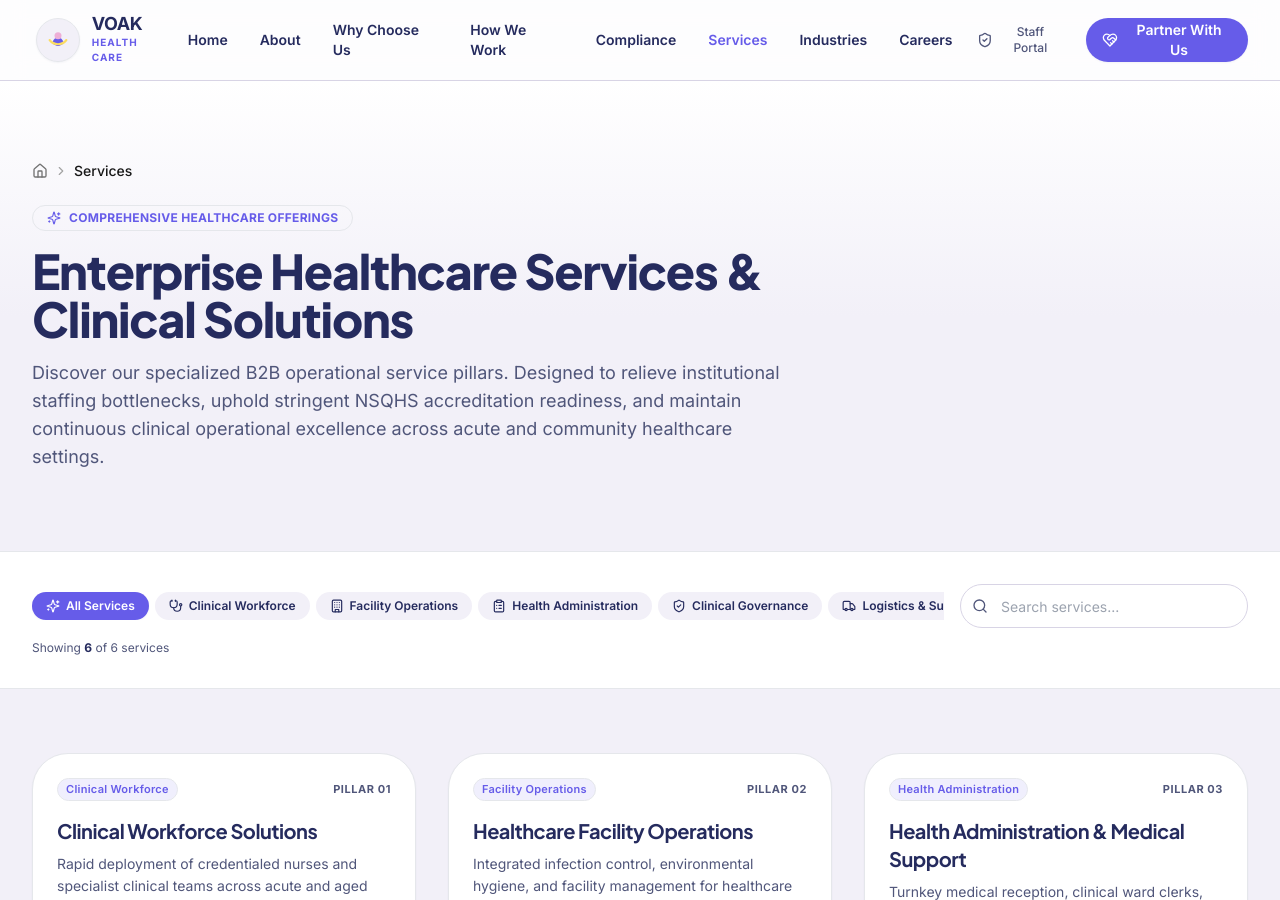
Scenario: Phase 22 — Services & Industries Catalog Suite › PAGE-PUB-03: Services Overview (/services) › filters services by keyword search and displays empty state on zero matches
This screenshot has width=1280, height=900.
Type "locum" into the search field with placeholder "Search services...".
click(1104, 606); type("locum")  # box [960,584,1248,628]
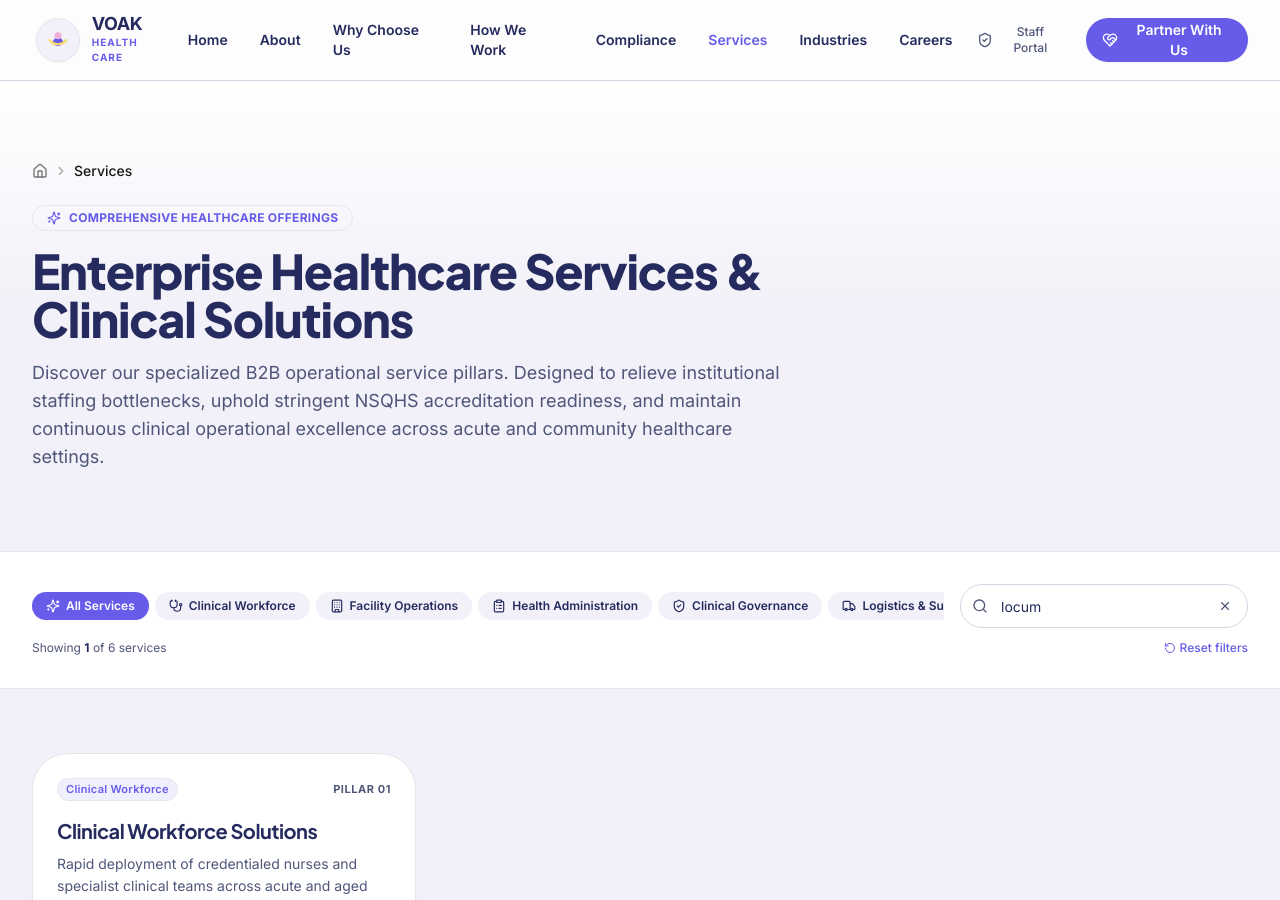
Expected: the heading "Clinical Workforce Solutions" is shown, [57,818,317,842]
Now the heading "Healthcare Facility Operations" is gone
Note: Type non-matching search query
Replace the text in the search field with placeholder "Search services..." with "xyznonexistent123" at (1104, 606), box [960,584,1248,628]
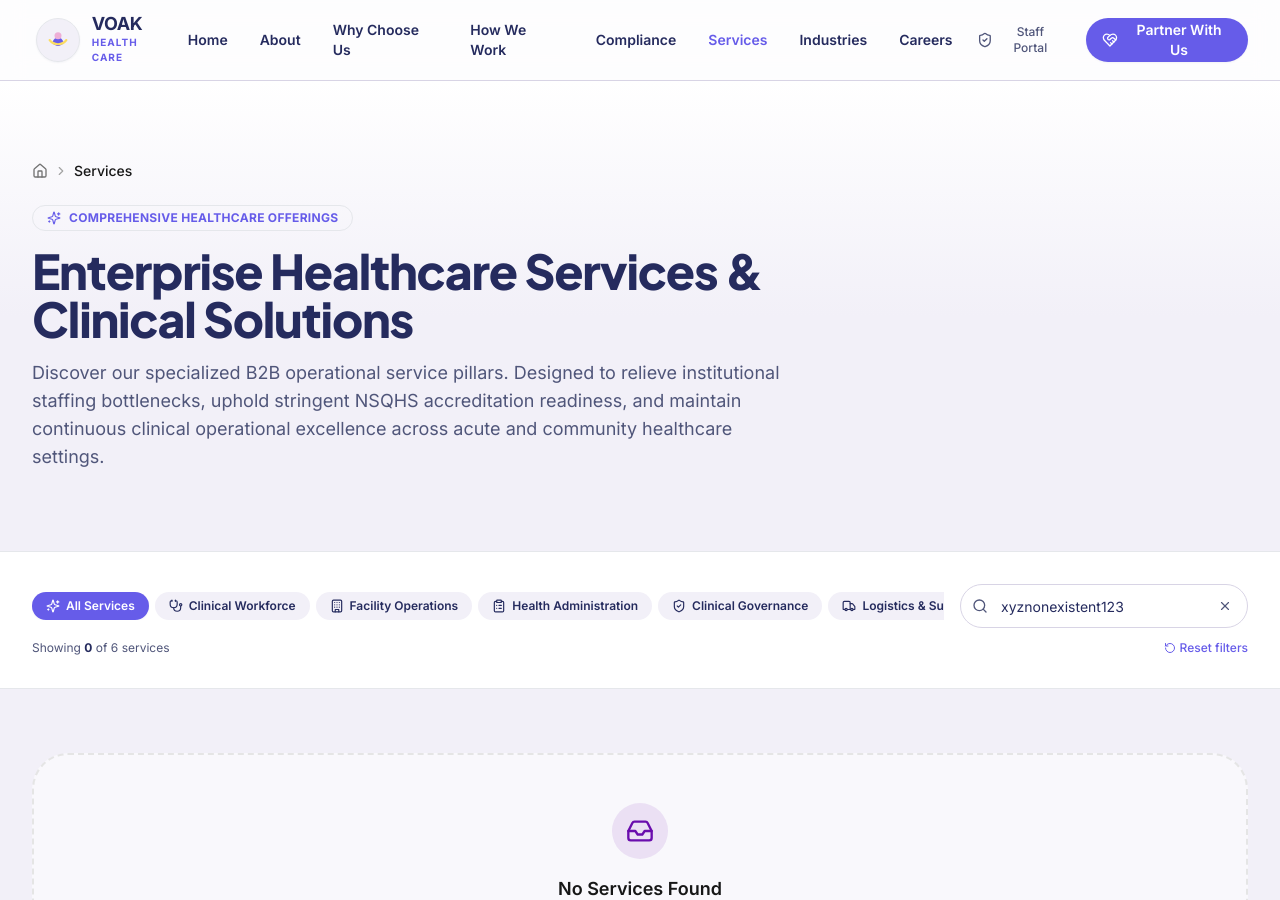
Note: Reset filters button
Click the button "Reset filters".
click(1206, 648)  # box [1164,640,1248,656]
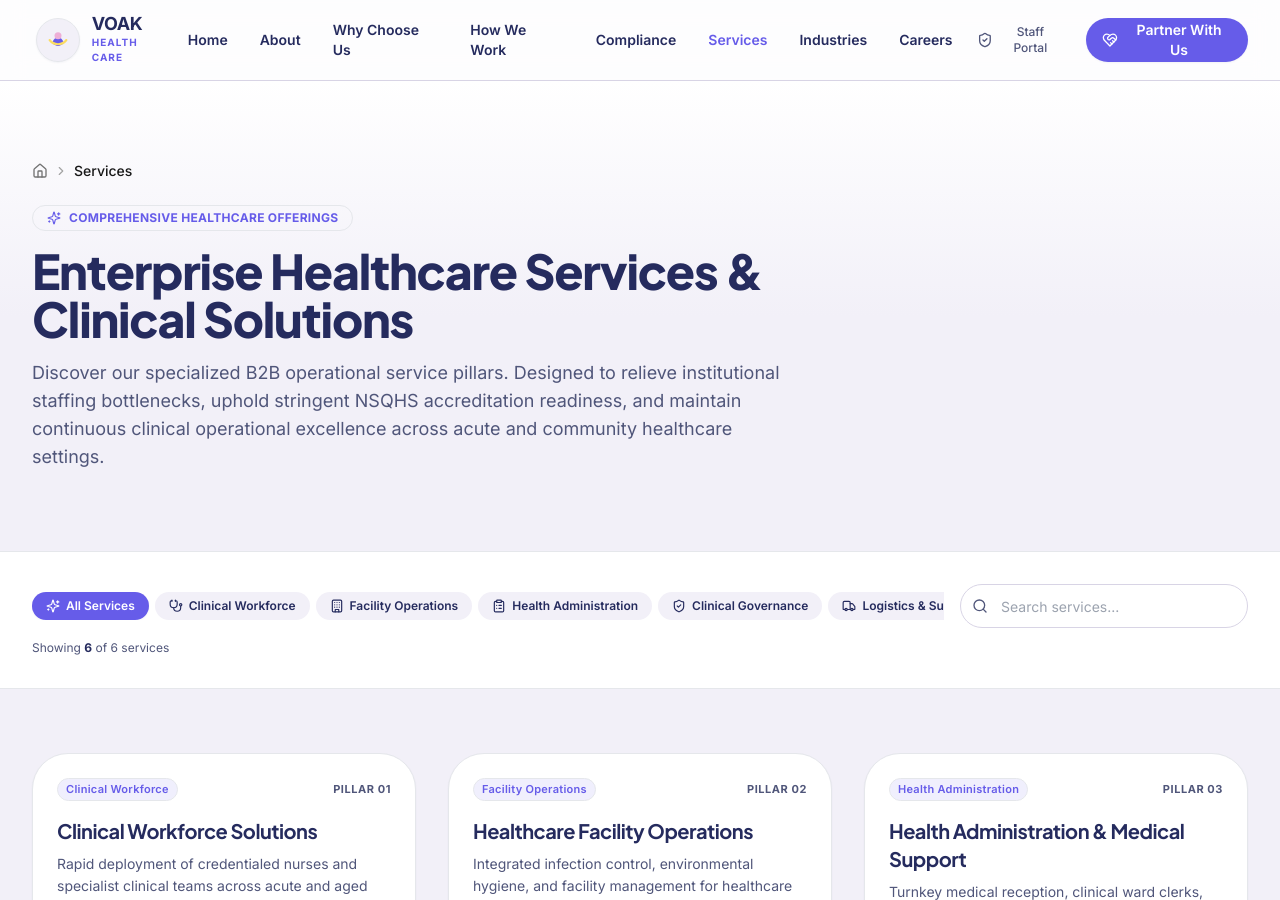
Now the heading "Clinical Workforce Solutions" is shown, box [57,818,317,842]
Now the heading "Healthcare Facility Operations" is shown, box [473,818,753,842]
